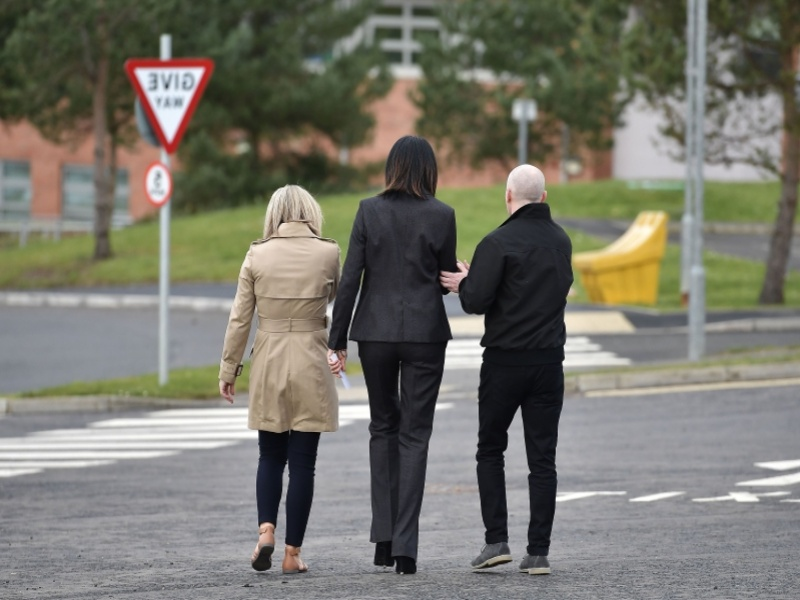person: (329, 136, 475, 572), (208, 185, 355, 577), (458, 151, 584, 583)
